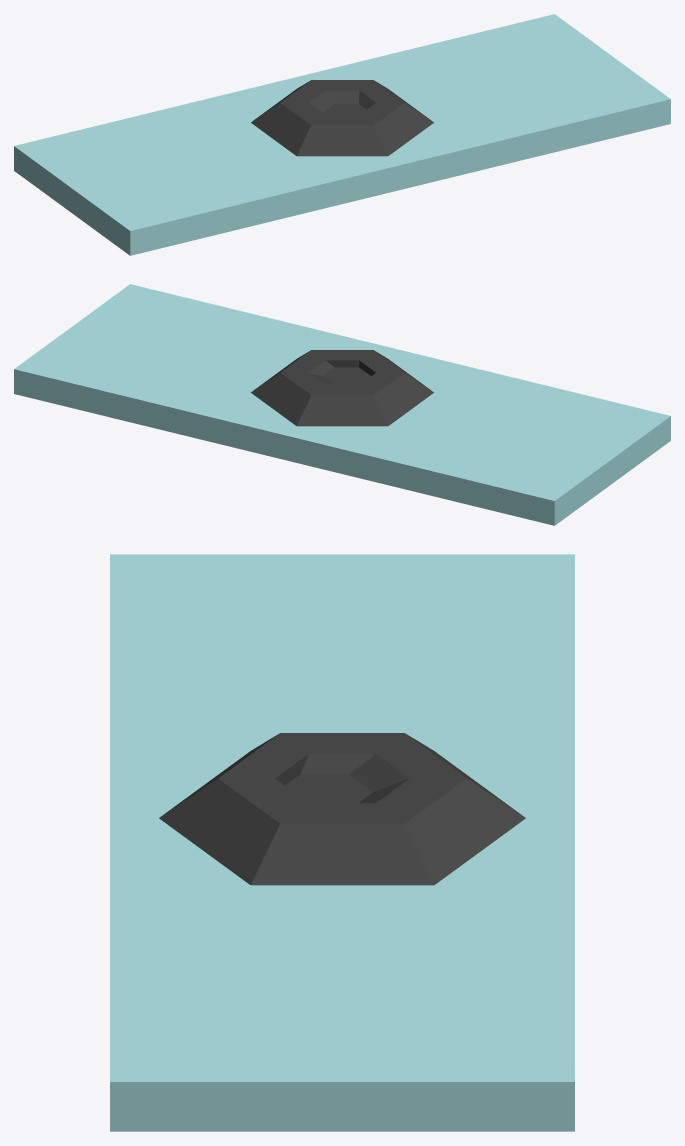
Rendered from MesaLProjetor.fbx.
The picture shows the model from 3 angles, top to bottom: view 1: azimuth 30°, elevation 25°; view 2: azimuth 150°, elevation 25°; view 3: azimuth 270°, elevation 25°; orthographic projection. The views are drawn at different scales.
Parts seen in each view (by area): view 1: Holograma; view 2: Holograma; view 3: Holograma.
Boxes of the visible parts, x1,y1,x2,y2 form: Holograma: [14, 14, 670, 255]; Holograma: [14, 284, 670, 525]; Holograma: [110, 554, 574, 1131].
Bounding box in the file's own units: 73.04 × 5.77 × 27.2.
